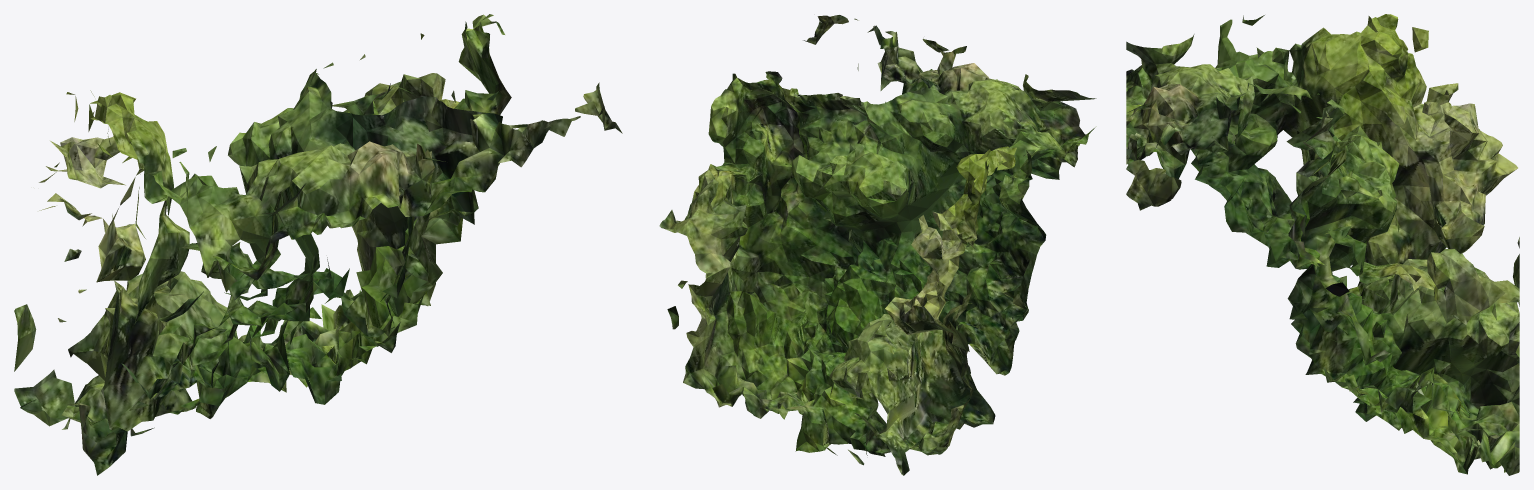
3 renders of one model, left to right at view 1: azimuth 30°, elevation 25°; view 2: azimuth 150°, elevation 25°; view 3: azimuth 270°, elevation 25°, orthographic. The views are drawn at different scales.
Bounding box in the file's own units: 26.11 × 26.11 × 26.11.
8 materials, 8 textured.
